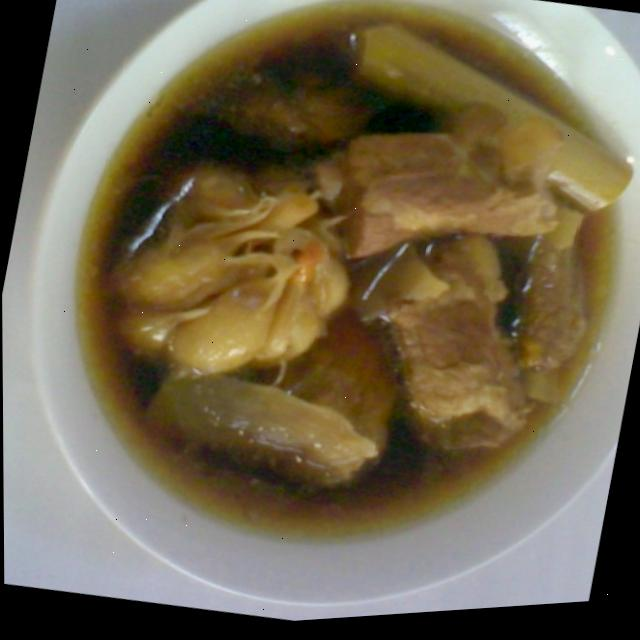汤锅炖物: (22, 0, 640, 616)
